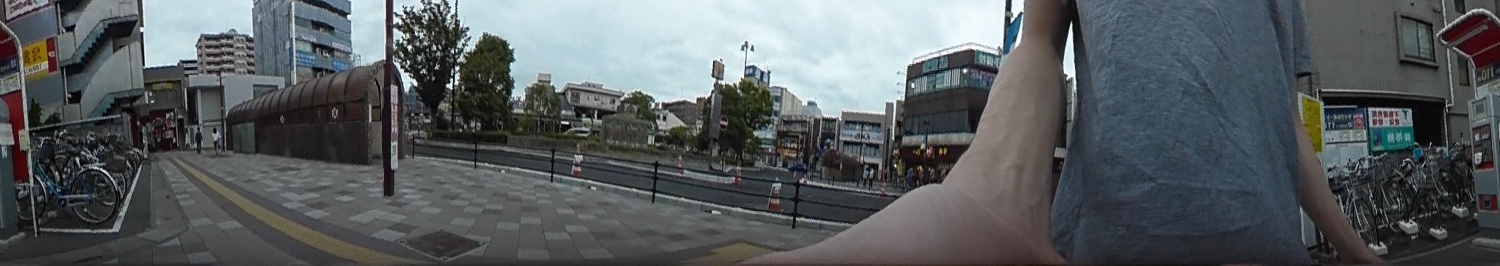difficult_person: (903, 165, 914, 189)
